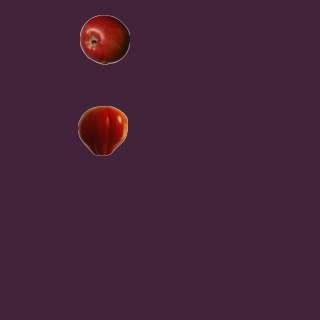Apple Braeburn: (79, 14, 129, 64)
Tomato 1: (77, 105, 127, 155)
